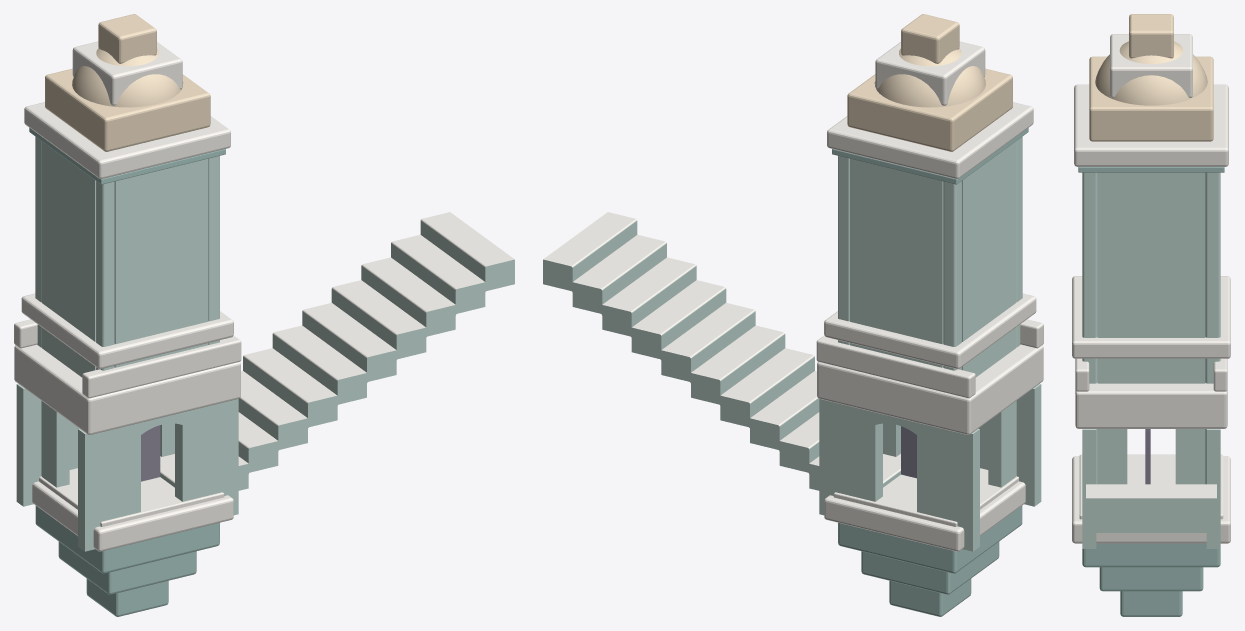
File: monument-kit.glb
3 views of the same model, side by side, from view 1: azimuth 30°, elevation 25°; view 2: azimuth 150°, elevation 25°; view 3: azimuth 270°, elevation 25° (orthographic).
Visible parts, largest first — view 1: tower_dome, staircase, arcade, pavilion, tower_steps, corbel, window; view 2: tower_dome, staircase, arcade, pavilion, tower_steps, corbel, window; view 3: tower_dome, tower_steps, arcade, pavilion, corbel, staircase, window.
Part boxes in pixels (x1=…): tower_dome: x1=24, y1=48, x2=230, y2=526; staircase: x1=160, y1=212, x2=514, y2=490; arcade: x1=14, y1=319, x2=241, y2=551; pavilion: x1=21, y1=293, x2=233, y2=551; tower_steps: x1=45, y1=14, x2=210, y2=151; corbel: x1=35, y1=505, x2=219, y2=616; window: x1=141, y1=425, x2=160, y2=481; tower_dome: x1=827, y1=48, x2=1033, y2=526; staircase: x1=543, y1=212, x2=900, y2=490; arcade: x1=816, y1=319, x2=1043, y2=551; pavilion: x1=824, y1=293, x2=1036, y2=551; tower_steps: x1=847, y1=14, x2=1012, y2=151; corbel: x1=838, y1=505, x2=1022, y2=616; window: x1=901, y1=426, x2=916, y2=478; tower_dome: x1=1074, y1=41, x2=1228, y2=519; tower_steps: x1=1089, y1=14, x2=1213, y2=141; arcade: x1=1075, y1=358, x2=1227, y2=548; pavilion: x1=1072, y1=276, x2=1230, y2=543; corbel: x1=1082, y1=543, x2=1220, y2=616; staircase: x1=1086, y1=484, x2=1216, y2=532; window: x1=1145, y1=429, x2=1150, y2=484.
Bounding box in the file's own units: 7.3 × 9.3 × 2.3.
